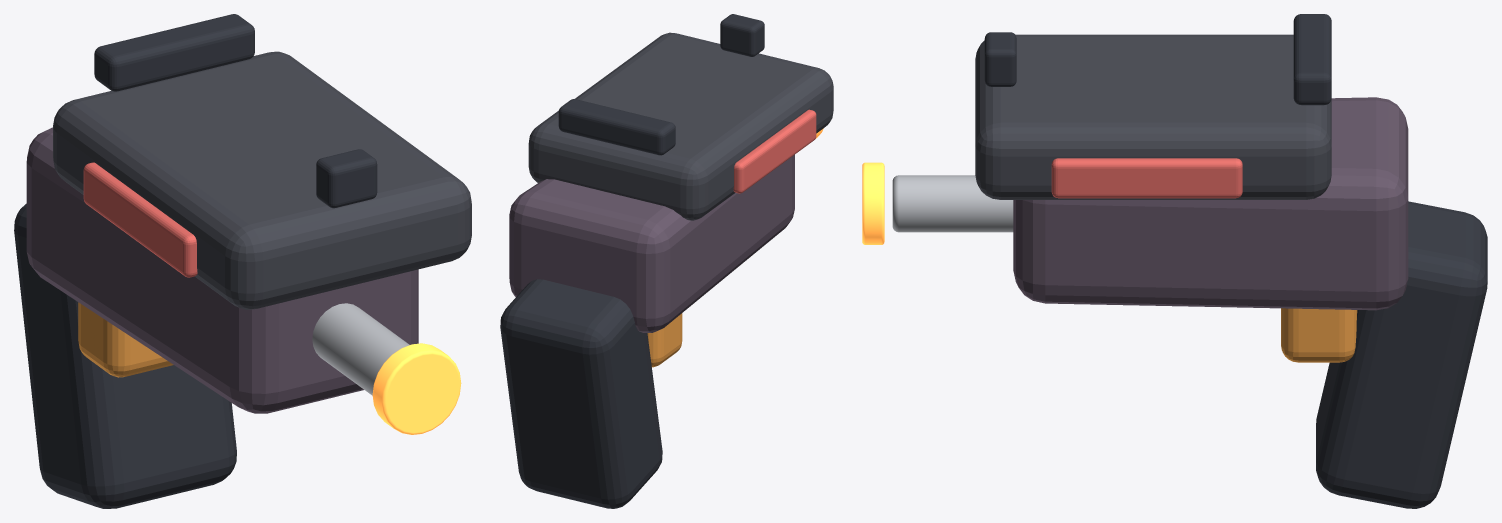
File: pistol.glb
3 views of the same model, side by side, from view 1: azimuth 30°, elevation 25°; view 2: azimuth 150°, elevation 25°; view 3: azimuth 270°, elevation 25° (orthographic). The views are drawn at different scales.
Visible parts, largest first — view 1: Slide, Body, Grip, RearSight, PistolMuzzleGlow, SlideInsetLeft, PistolBarrel, TriggerGuard, FrontSight; view 2: Slide, Grip, Body, RearSight, SlideInsetLeft, FrontSight, TriggerGuard; view 3: Body, Slide, Grip, SlideInsetRight, PistolBarrel, TriggerGuard, RearSight, PistolMuzzleGlow, FrontSight.
Boxes of the visible parts, x1,y1,x2,y2 form: Slide: [53, 51, 471, 309]; Body: [26, 127, 418, 413]; Grip: [14, 203, 236, 508]; RearSight: [94, 14, 254, 91]; PistolMuzzleGlow: [372, 343, 461, 434]; SlideInsetLeft: [83, 162, 197, 277]; PistolBarrel: [312, 303, 409, 395]; TriggerGuard: [78, 302, 173, 377]; FrontSight: [316, 149, 377, 208]; Slide: [528, 32, 833, 220]; Grip: [500, 279, 662, 508]; Body: [509, 154, 794, 332]; RearSight: [558, 99, 675, 155]; SlideInsetLeft: [733, 109, 816, 193]; FrontSight: [720, 14, 764, 56]; TriggerGuard: [647, 313, 682, 367]; Body: [1013, 97, 1408, 310]; Slide: [975, 34, 1331, 199]; Grip: [1316, 201, 1487, 508]; SlideInsetRight: [1051, 158, 1242, 198]; PistolBarrel: [892, 175, 1013, 232]; TriggerGuard: [1281, 308, 1357, 362]; RearSight: [1293, 14, 1331, 105]; PistolMuzzleGlow: [862, 162, 884, 244]; FrontSight: [984, 32, 1016, 86].
Bounding box in the file's own units: 0.435 × 0.7699 × 0.9824.
